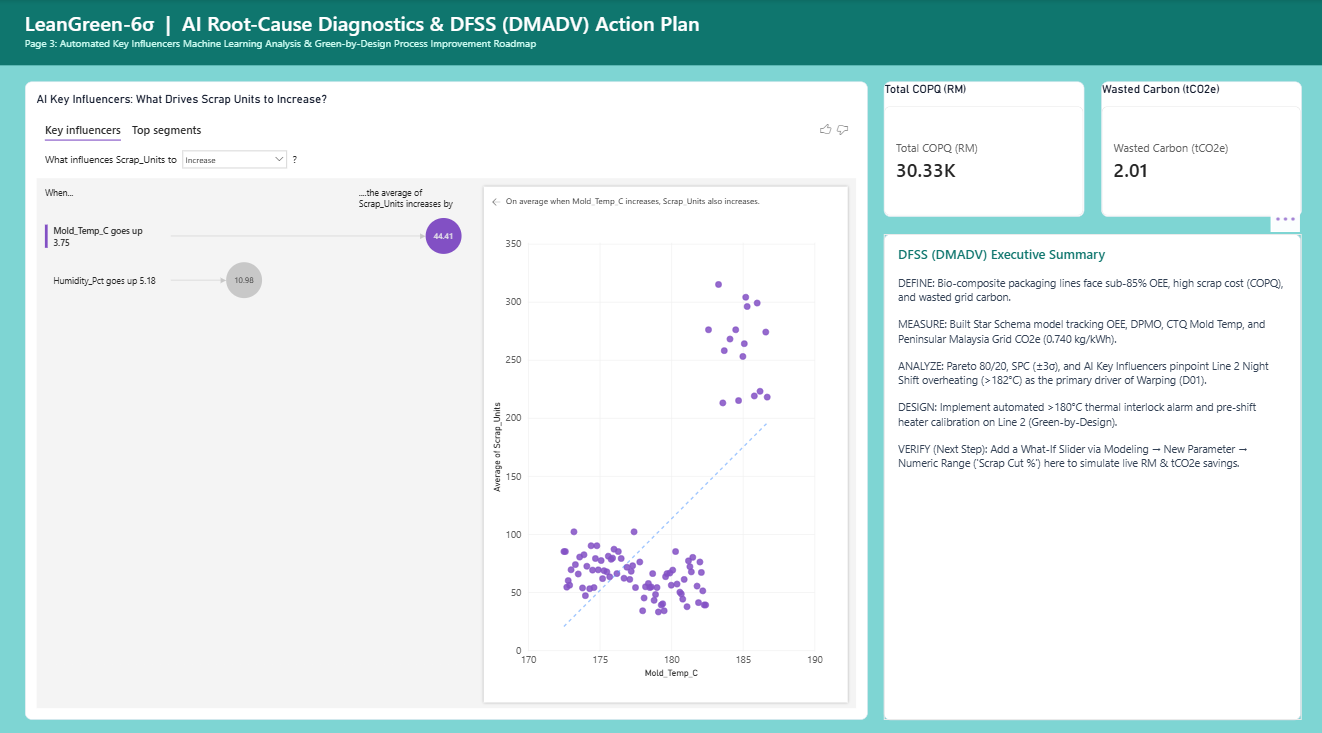

Layout of this report page (visuals, bound fields, positions):
{"tool":"powerbi","page":{"name":"3 · AI Root-Cause & DMADV","canvas":[1920,1080],"ordinal":2},"visuals":[{"type":"keyDriversVisual","title":"AI Key Influencers: What Drives Scrap Units to Increase?","fields":{"ExplainBy":["tbl_Line.Line_Name","Fact_Production.Shift","Fact_Production.Mold_Temp_C","Fact_Production.Humidity_Pct"],"Target":["Fact_Production.Scrap_Units"]},"box":[37,119.4,1220,924],"z":10},{"type":"cardVisual","title":"Total COPQ (RM)","fields":{"Data":["_Measures.Total COPQ (RM)"]},"box":[1280,120,290,196],"z":11},{"type":"cardVisual","title":"Wasted Carbon (tCO2e)","fields":{"Data":["_Measures.Wasted Carbon (tCO2e)"]},"box":[1594,120,290,196],"z":12},{"type":"textbox","box":[1280,340,604,704],"z":13},{"type":"textbox","box":[0,0,1920,96],"z":100}]}

Visuals, with their boxes in screenshot pixels (x1, y1, x2, y2), scaled from the page's 1920x1080 canvas onto the 1322x733 screenshot:
"AI Key Influencers: What Drives Scrap Units to Increase?" keyDriversVisual: box(25, 81, 865, 708)
"Total COPQ (RM)" cardVisual: box(881, 81, 1081, 214)
"Wasted Carbon (tCO2e)" cardVisual: box(1098, 81, 1297, 214)
textbox: box(881, 231, 1297, 709)
textbox: box(0, 0, 1321, 65)
